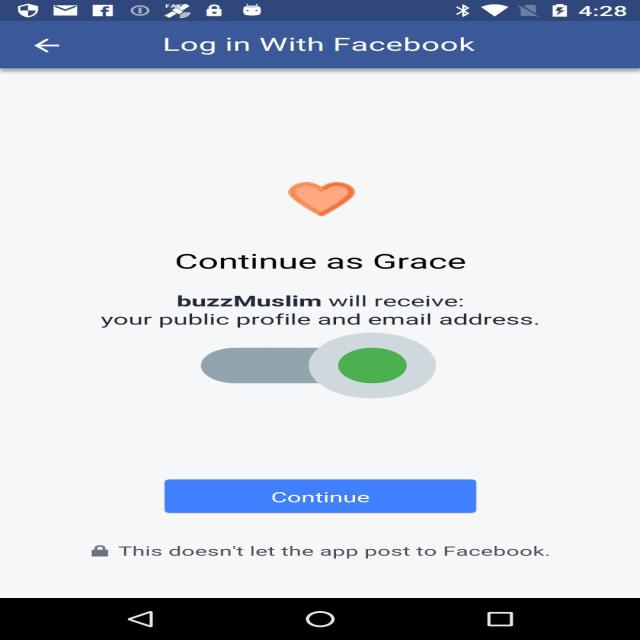social proof: (201, 305, 436, 426)
